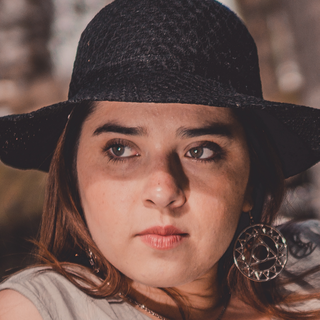eye: (176, 139, 228, 169), (99, 138, 146, 165)
